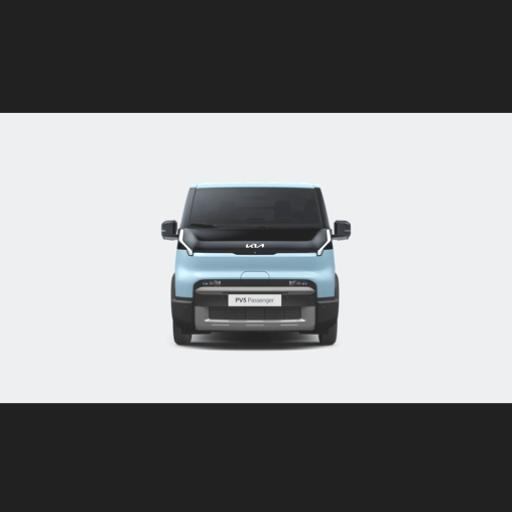van: (162, 183, 350, 343)
